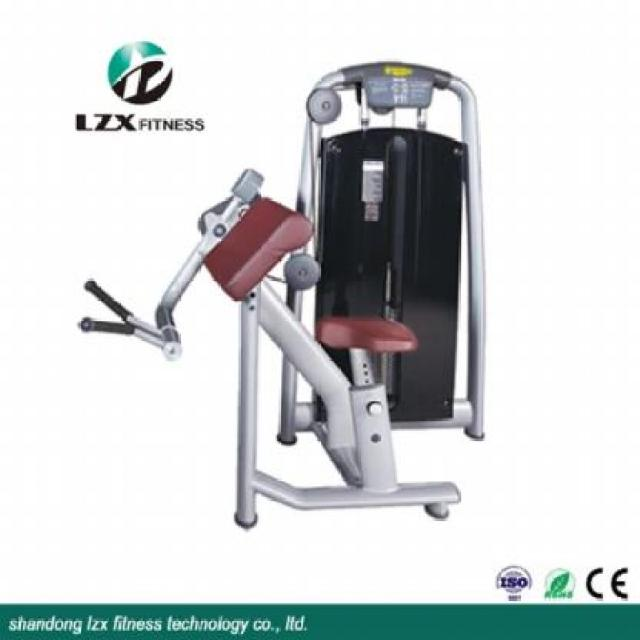arm curl machine: (80, 140, 488, 531)
